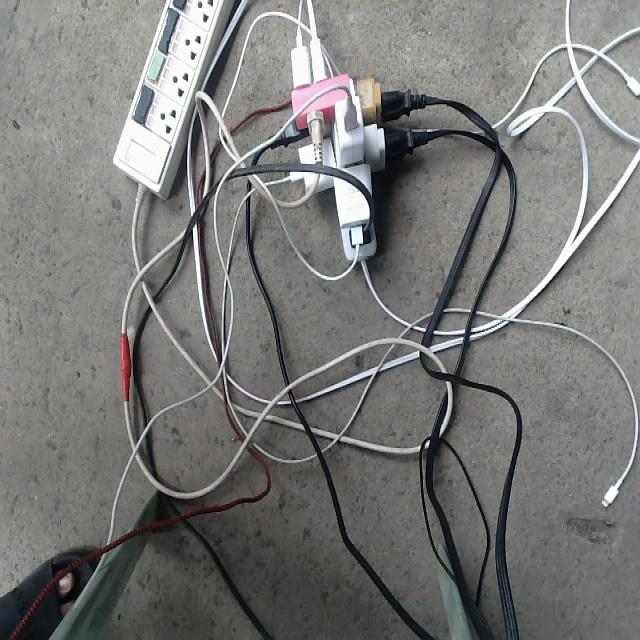-: (268, 22, 428, 262)
